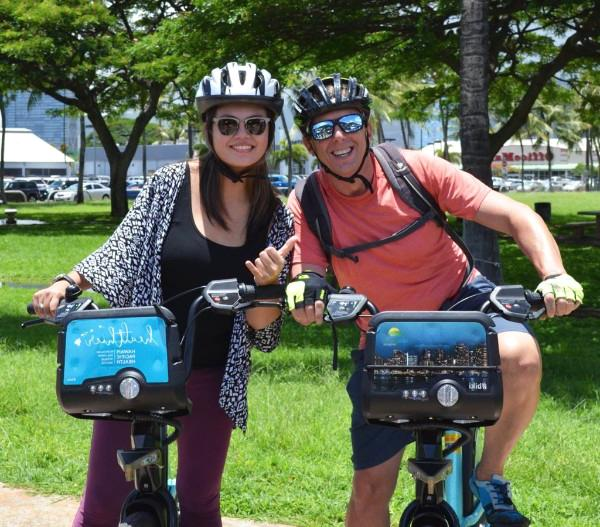With Helmet: (188, 56, 289, 174), (294, 67, 373, 184)
